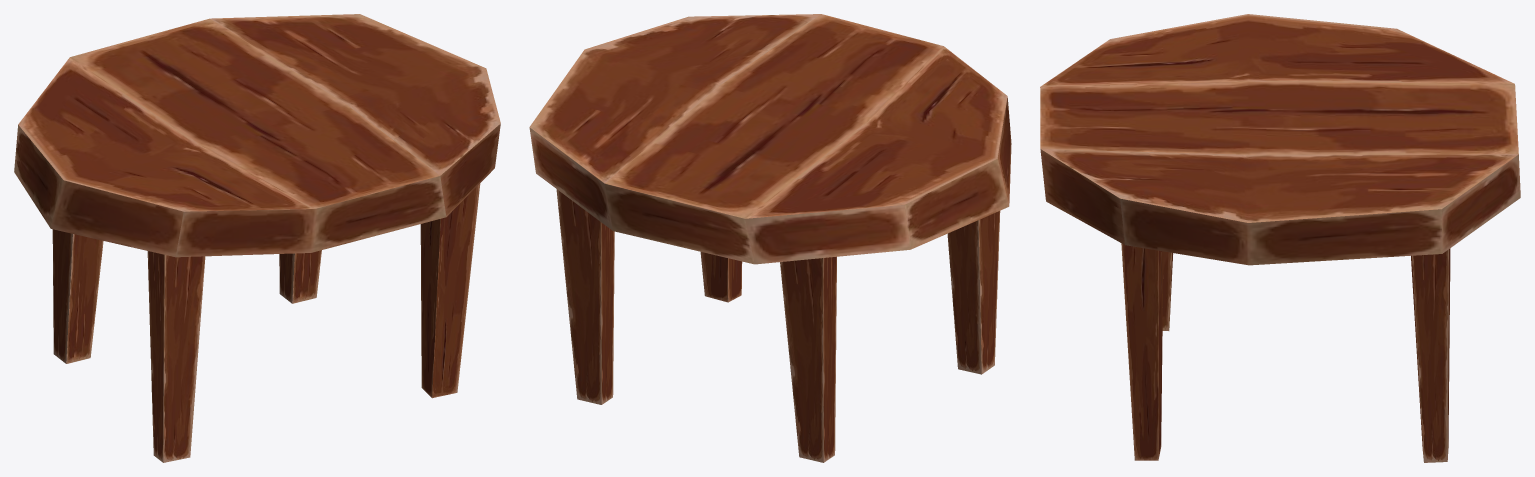
File: SM_PROP_table_03.glb
The picture shows the model from 3 angles, left to right: view 1: azimuth 30°, elevation 25°; view 2: azimuth 150°, elevation 25°; view 3: azimuth 270°, elevation 25°; orthographic projection. The views are drawn at different scales.
Parts seen in each view (by area): view 1: SM_PROP_table_03_EXPORT; view 2: SM_PROP_table_03_EXPORT; view 3: SM_PROP_table_03_EXPORT.
Part boxes in pixels (left/top/right/bottom): SM_PROP_table_03_EXPORT: left=14, top=14, right=500, bottom=462; SM_PROP_table_03_EXPORT: left=529, top=14, right=1011, bottom=462; SM_PROP_table_03_EXPORT: left=1040, top=14, right=1520, bottom=462.
Size of the model in its own units: 1.24 by 0.7486 by 1.12.
Materials: 1 (1 with a texture image).
